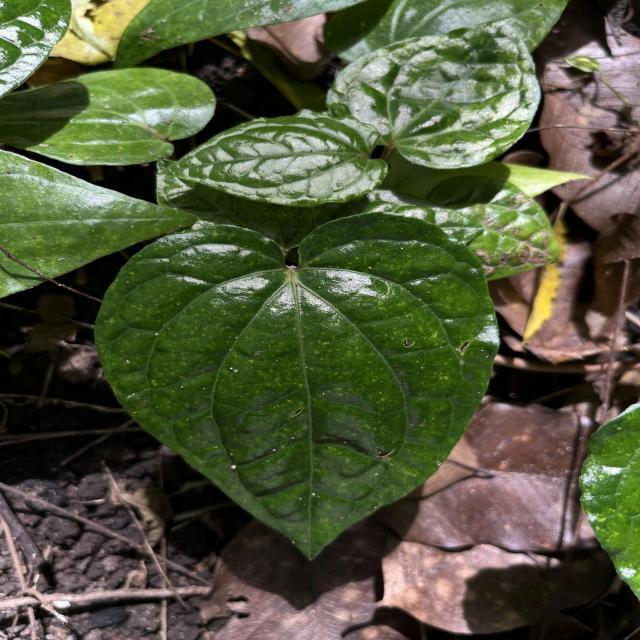Piper betle: (90, 208, 507, 564)
